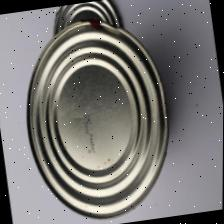metal: (9, 4, 202, 224)
